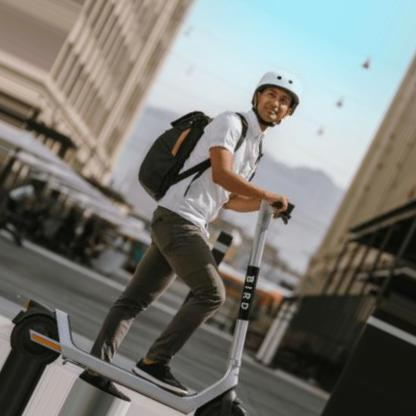scooter: (11, 192, 295, 416)
with helmet: (250, 69, 302, 127)
